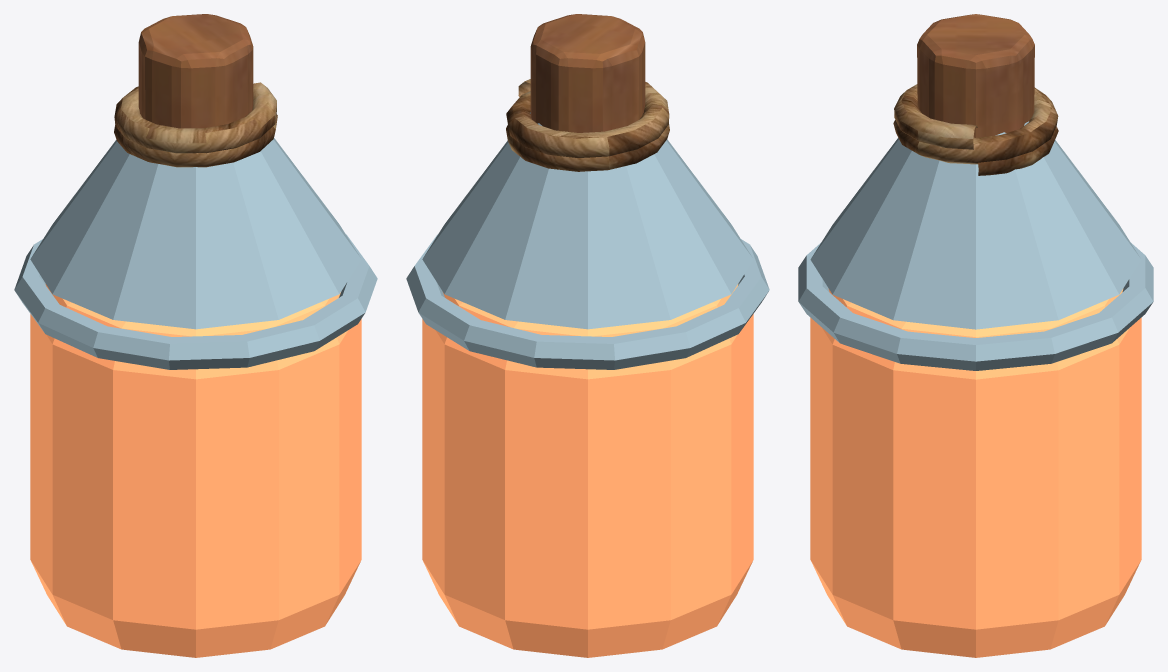
File: drink_firecap_cordial.glb
3 views of the same model, side by side, from view 1: azimuth 30°, elevation 25°; view 2: azimuth 150°, elevation 25°; view 3: azimuth 270°, elevation 25° (orthographic).
Parts seen in each view (by area): view 1: model; view 2: model; view 3: model.
Part boxes in pixels (x1,y1,x2,y2): model: [14, 14, 377, 657]; model: [406, 14, 769, 657]; model: [798, 14, 1153, 657].
Bounding box in the file's own units: 0.132 × 0.23 × 0.1287.
4 materials, 2 textured.
